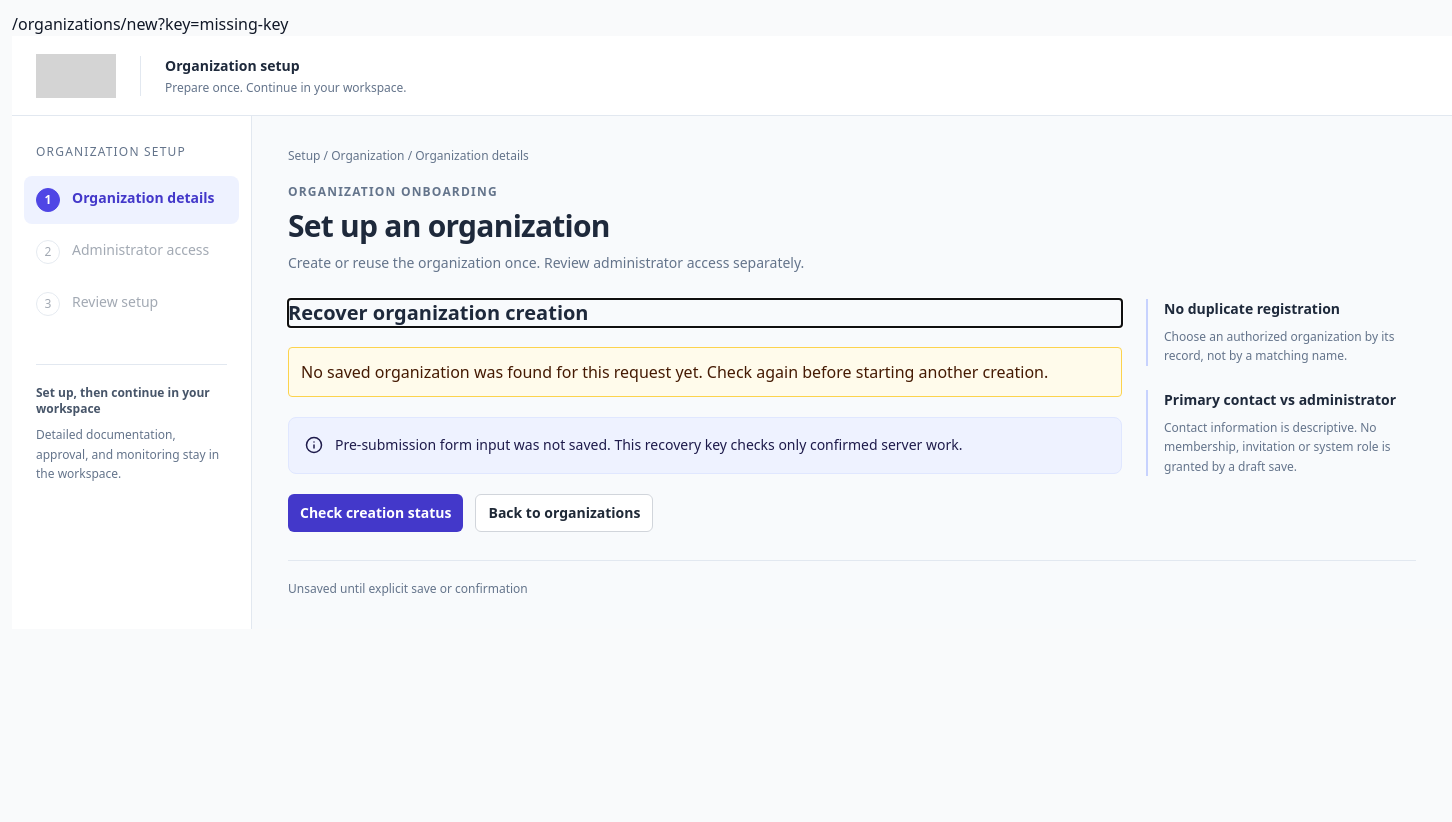
Test: CSP Add Organization approved flow › distinguishes missing creation from failing creation-status reads on a recovery link
The image size is (1452, 822).
expect the text "No saved organization was found for this request yet" is shown: met, box [301, 361, 1048, 383]
Click the button "Check creation status" at (376, 512), box [288, 494, 464, 532]
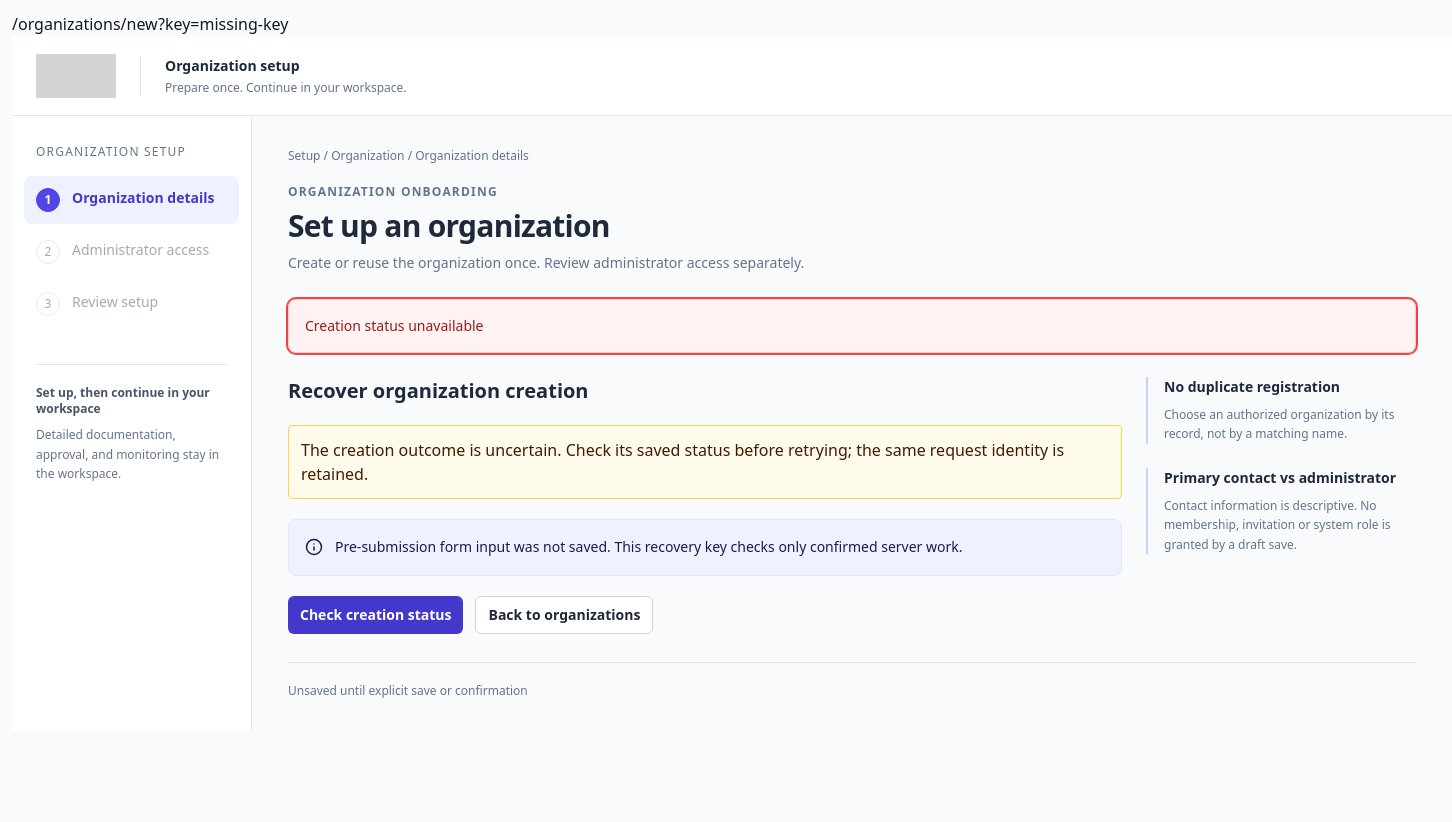
expect the text "Creation status unavailable" is shown: met, box [288, 299, 1416, 353]
